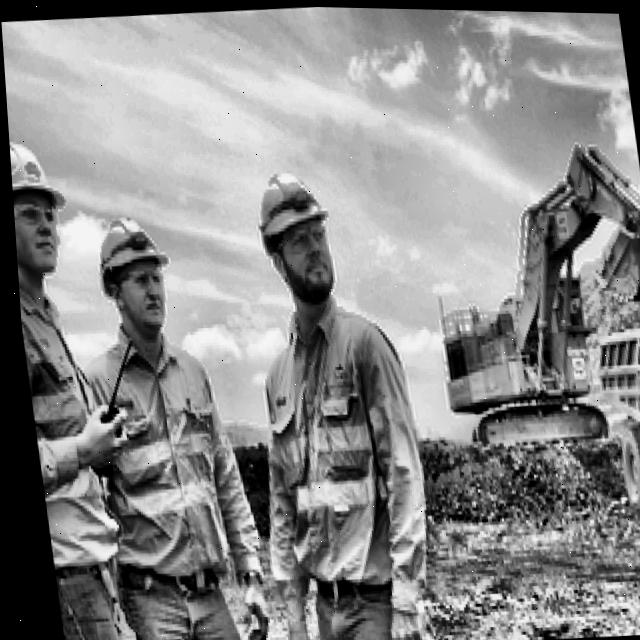dump_truck: (577, 307, 640, 540)
excavator: (392, 101, 640, 468)
